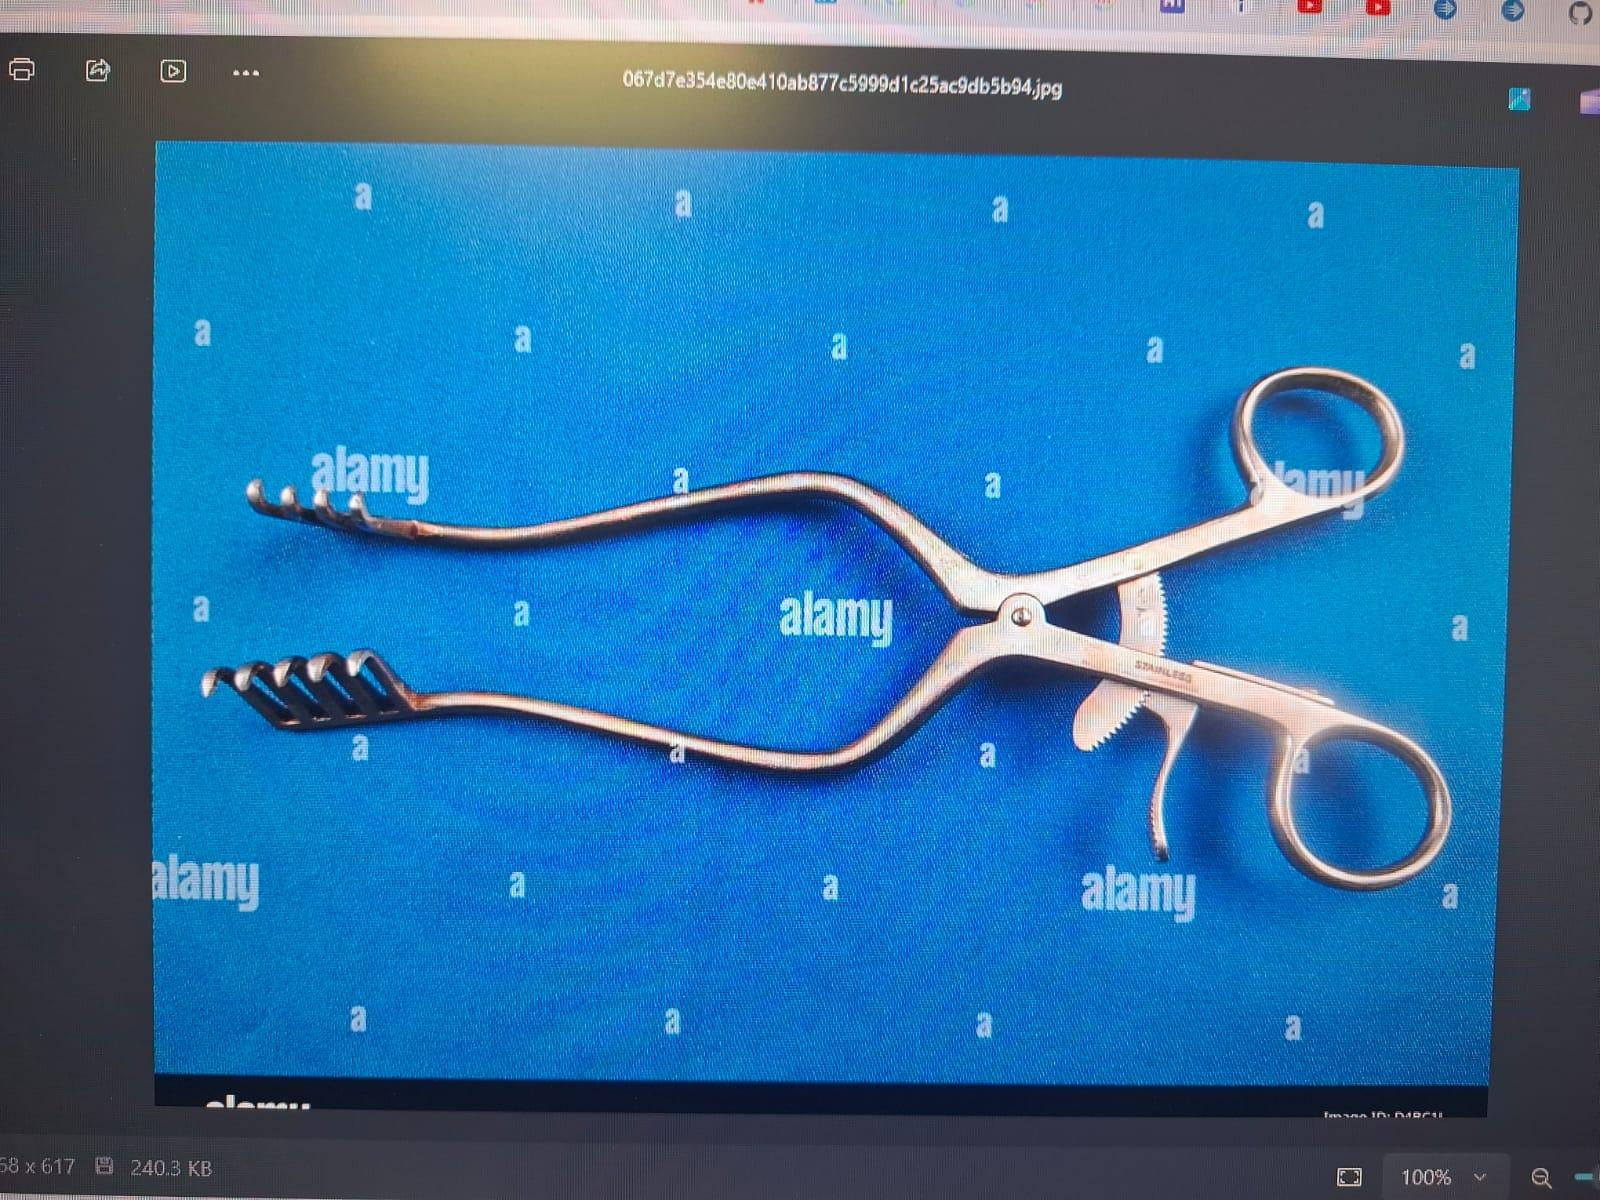Self Retractor: (191, 342, 1468, 894)
